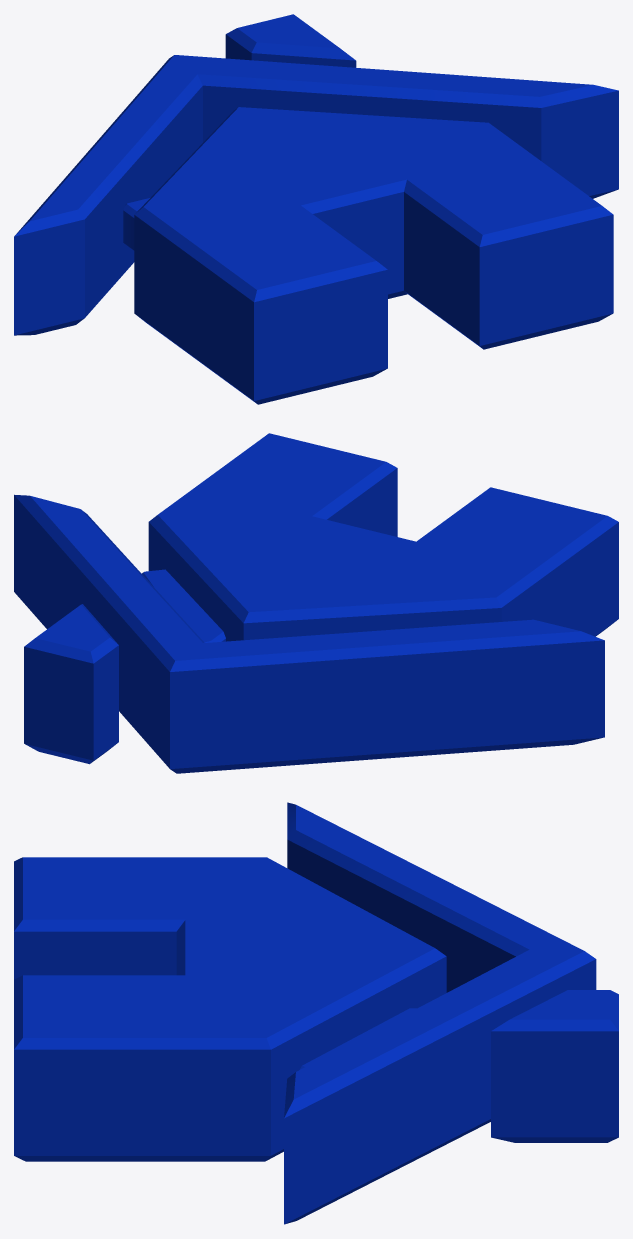
File: flecha.fbx
3 views of the same model, one above another, from view 1: azimuth 30°, elevation 25°; view 2: azimuth 150°, elevation 25°; view 3: azimuth 270°, elevation 25° (orthographic). The views are drawn at different scales.
Visible parts, largest first — view 1: Home, Flecha; view 2: Home, Flecha; view 3: Home.
Boxes of the visible parts, left/top/right/bottom form: Home: left=14, top=14, right=618, bottom=404; Flecha: left=123, top=198, right=149, bottom=250; Home: left=14, top=433, right=618, bottom=773; Flecha: left=141, top=569, right=225, bottom=642; Home: left=14, top=802, right=618, bottom=1224.
Bounding box in the file's own units: 57.5 × 10.58 × 46.5.
